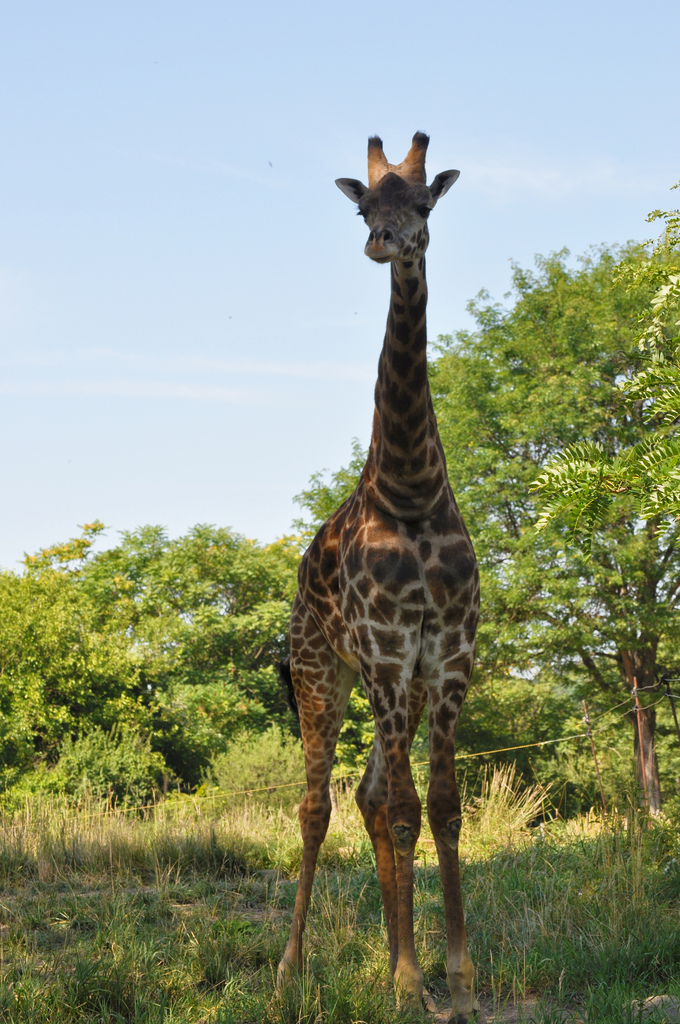giraffe: (258, 103, 535, 960)
